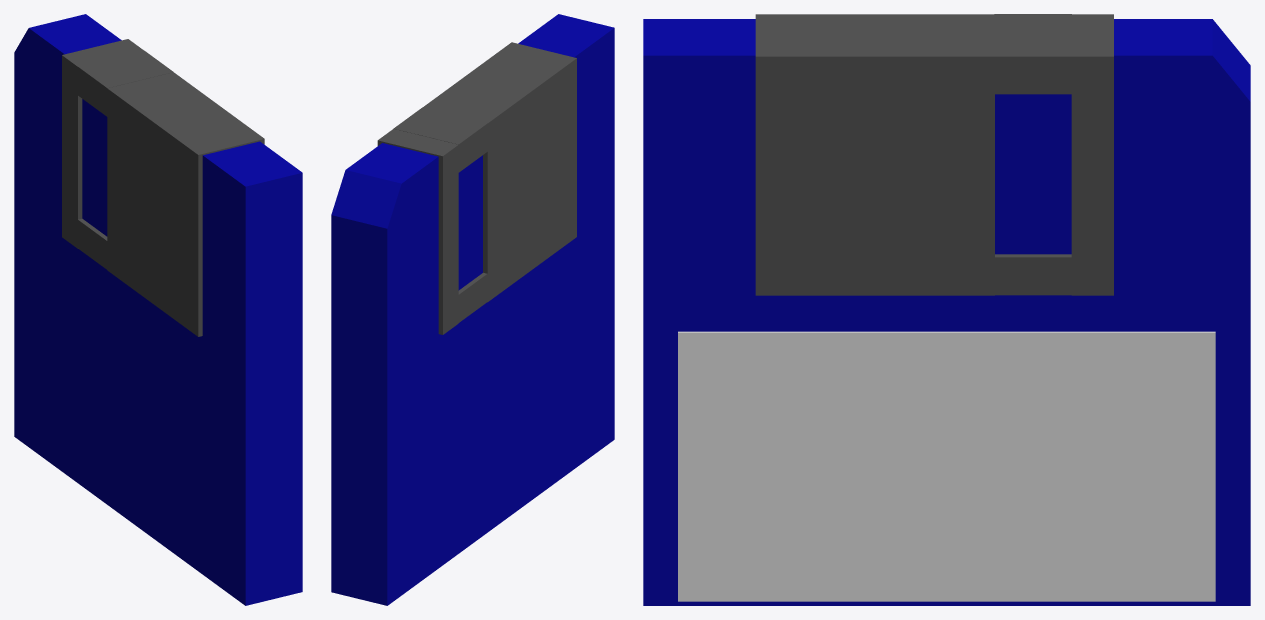
File: floppy.glb
3 renders of one model, left to right at view 1: azimuth 30°, elevation 25°; view 2: azimuth 150°, elevation 25°; view 3: azimuth 270°, elevation 25°, orthographic. The views are drawn at different scales.
Visible parts, largest first — view 1: Body, Clip; view 2: Body, Clip; view 3: Label, Body, Clip.
Part boxes in pixels (x1,y1,x2,y2): Body: (14,14,302,605); Clip: (62,39,264,336); Body: (331,14,614,605); Clip: (377,42,576,334); Label: (678,331,1215,601); Body: (643,19,1250,605); Clip: (755,14,1113,295).
Size of the model in its own units: 0.3315 by 2.01 by 2.
